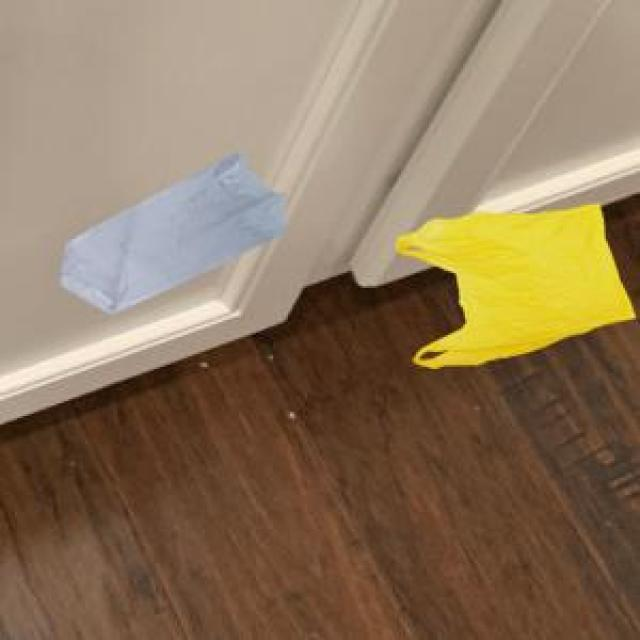waste: (398, 205, 634, 368), (61, 154, 285, 312)
